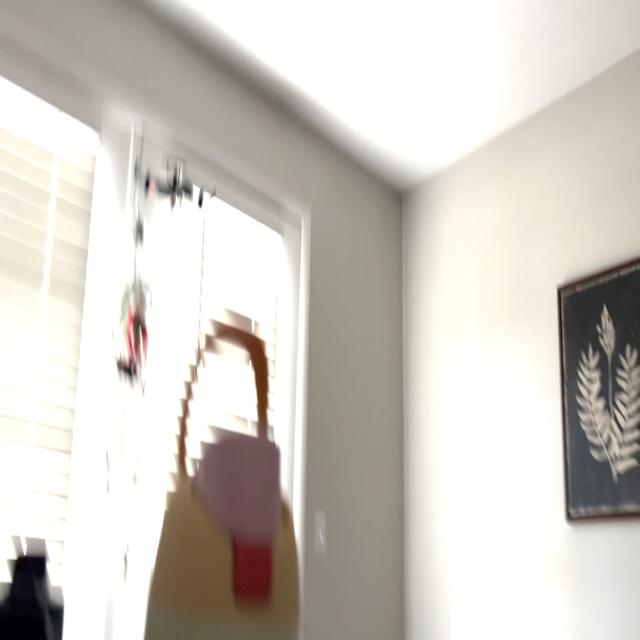drone: (128, 144, 218, 221)
